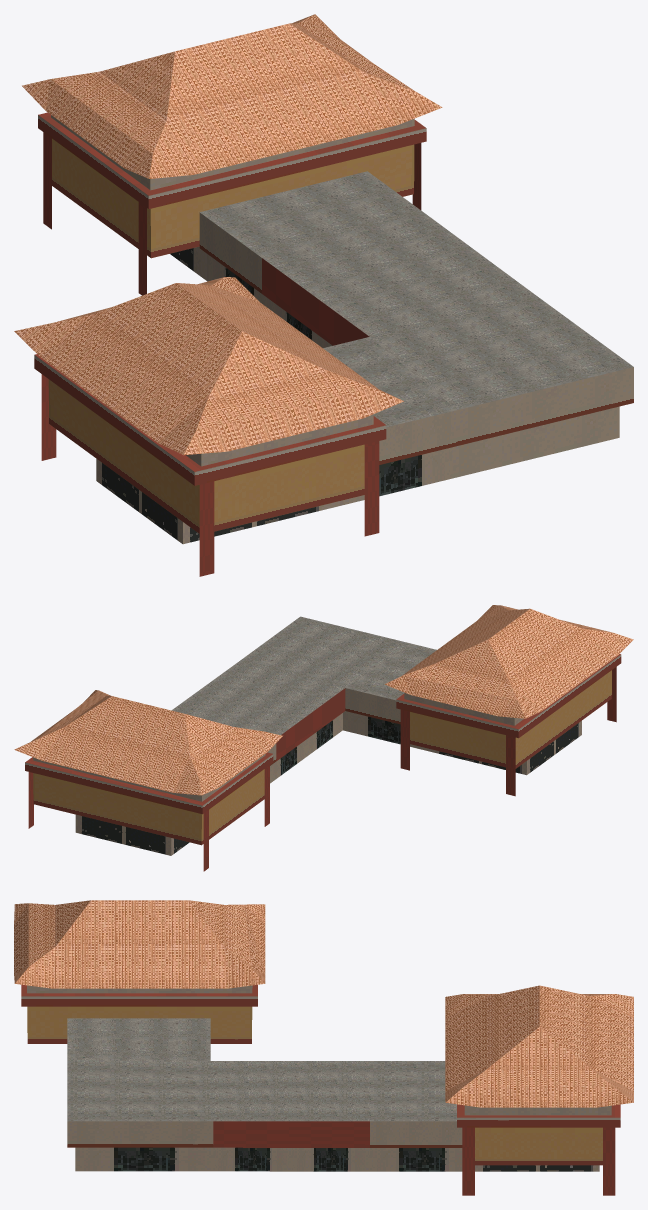
Rendered from lodatwnmll14_lvs.obj.
3 renders of one model, top to bottom at view 1: azimuth 30°, elevation 25°; view 2: azimuth 150°, elevation 25°; view 3: azimuth 270°, elevation 25°, orthographic. The views are drawn at different scales.
Parts seen in each view (by area): view 1: lodatwnmll14_lvs; view 2: lodatwnmll14_lvs; view 3: lodatwnmll14_lvs.
Part boxes in pixels (box(x1,y1,x2,y2)): lodatwnmll14_lvs: box(14, 14, 633, 576); lodatwnmll14_lvs: box(14, 605, 633, 871); lodatwnmll14_lvs: box(14, 900, 633, 1195).
Bounding box in the file's own units: 59.93 × 19.76 × 79.07.
Materials: 4 (4 with a texture image).
